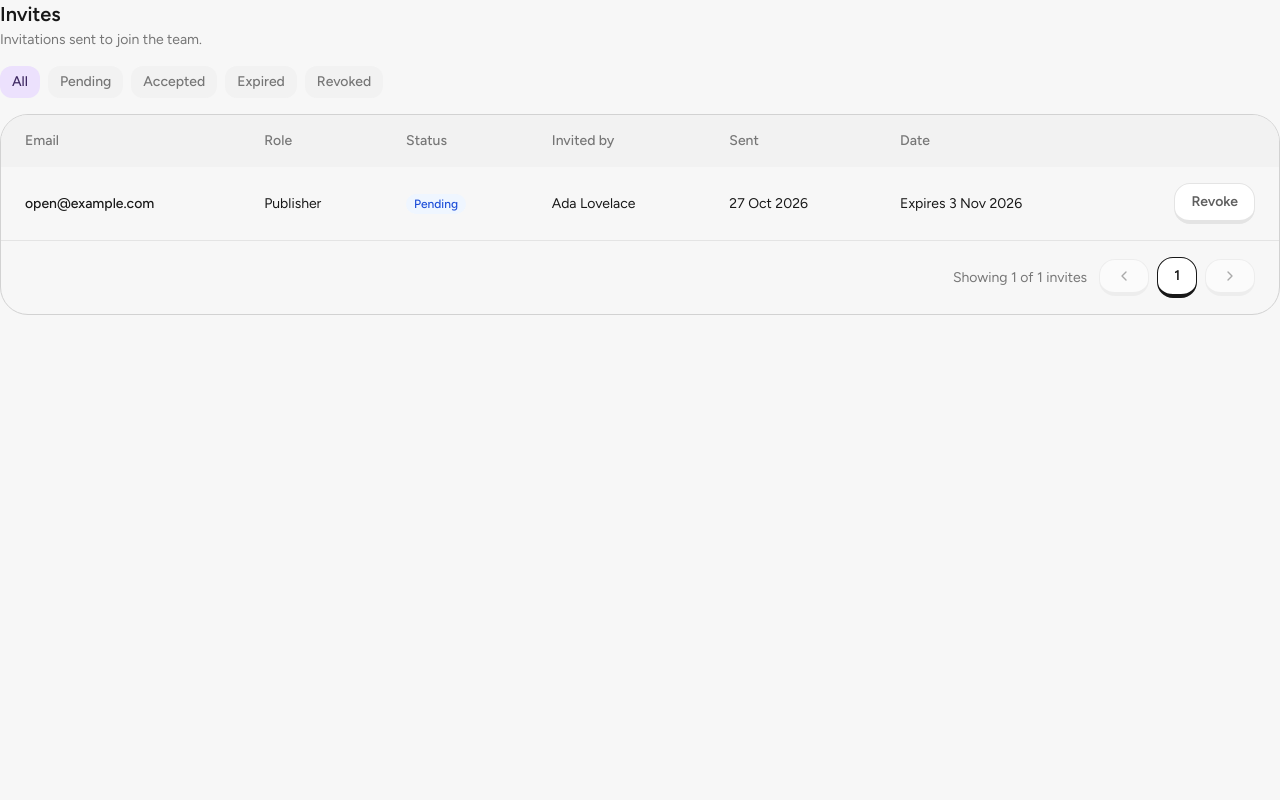
Test: InvitesSection › does not revoke when the dialog is cancelled
The width and height of the screenshot is (1280, 800).
Click the button "Revoke". click: (1215, 204)
box: [1174,183,1255,224]
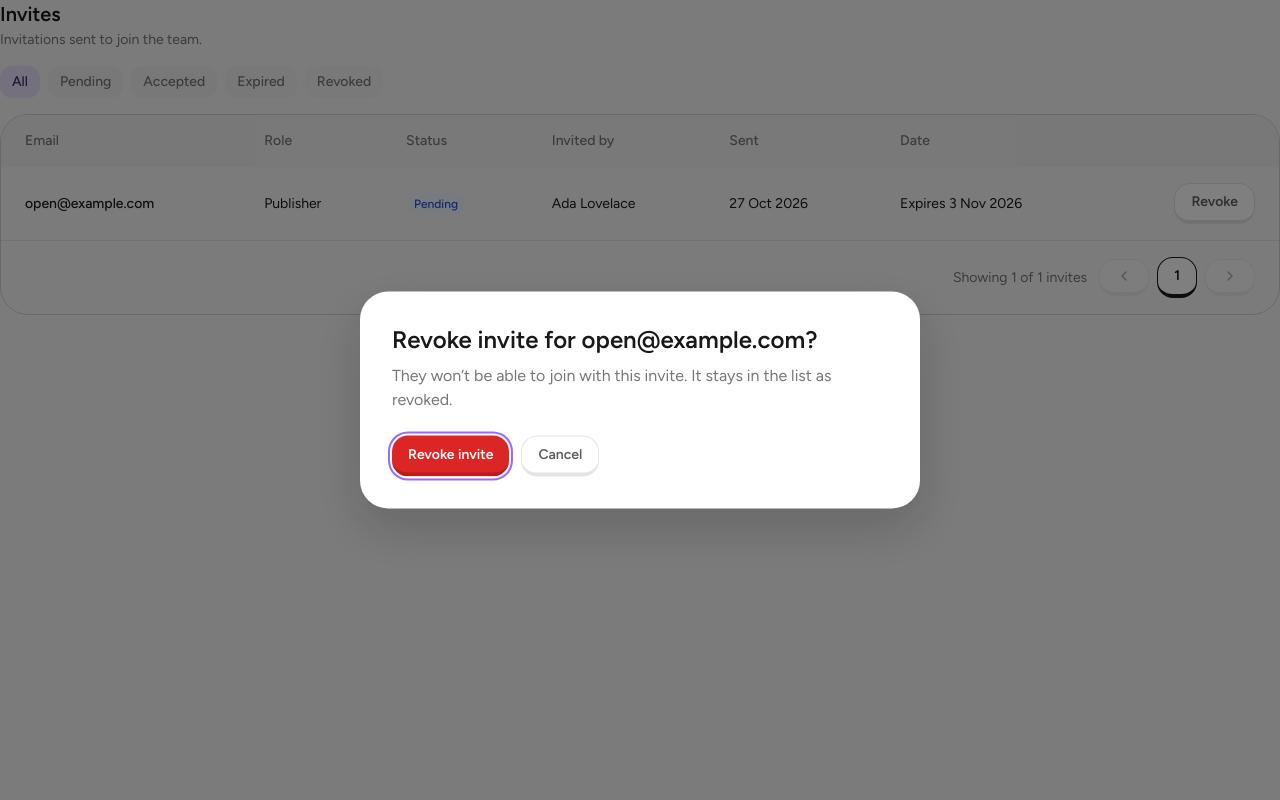
Click the button "Cancel". click: (560, 456)
box: [521,436,599,476]
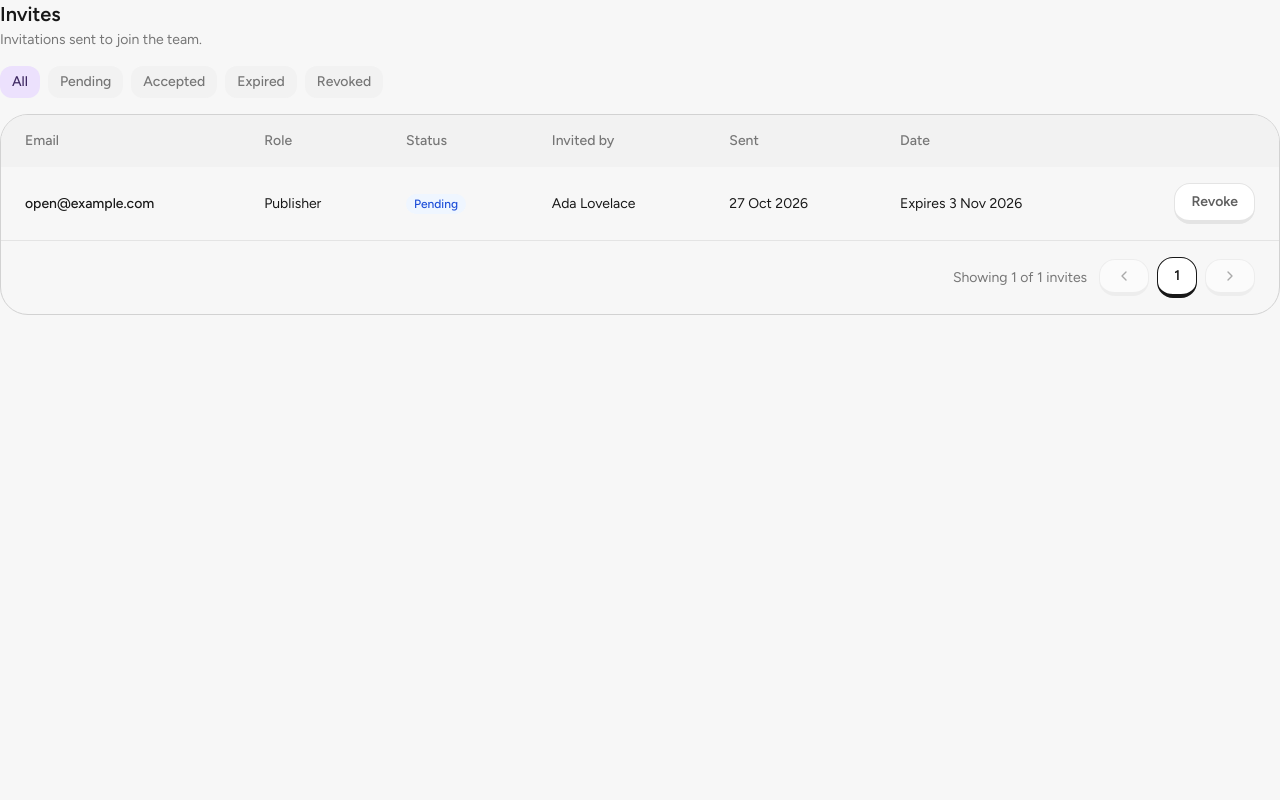
Expected: the heading "Revoke invite for open@example.com?" is gone
